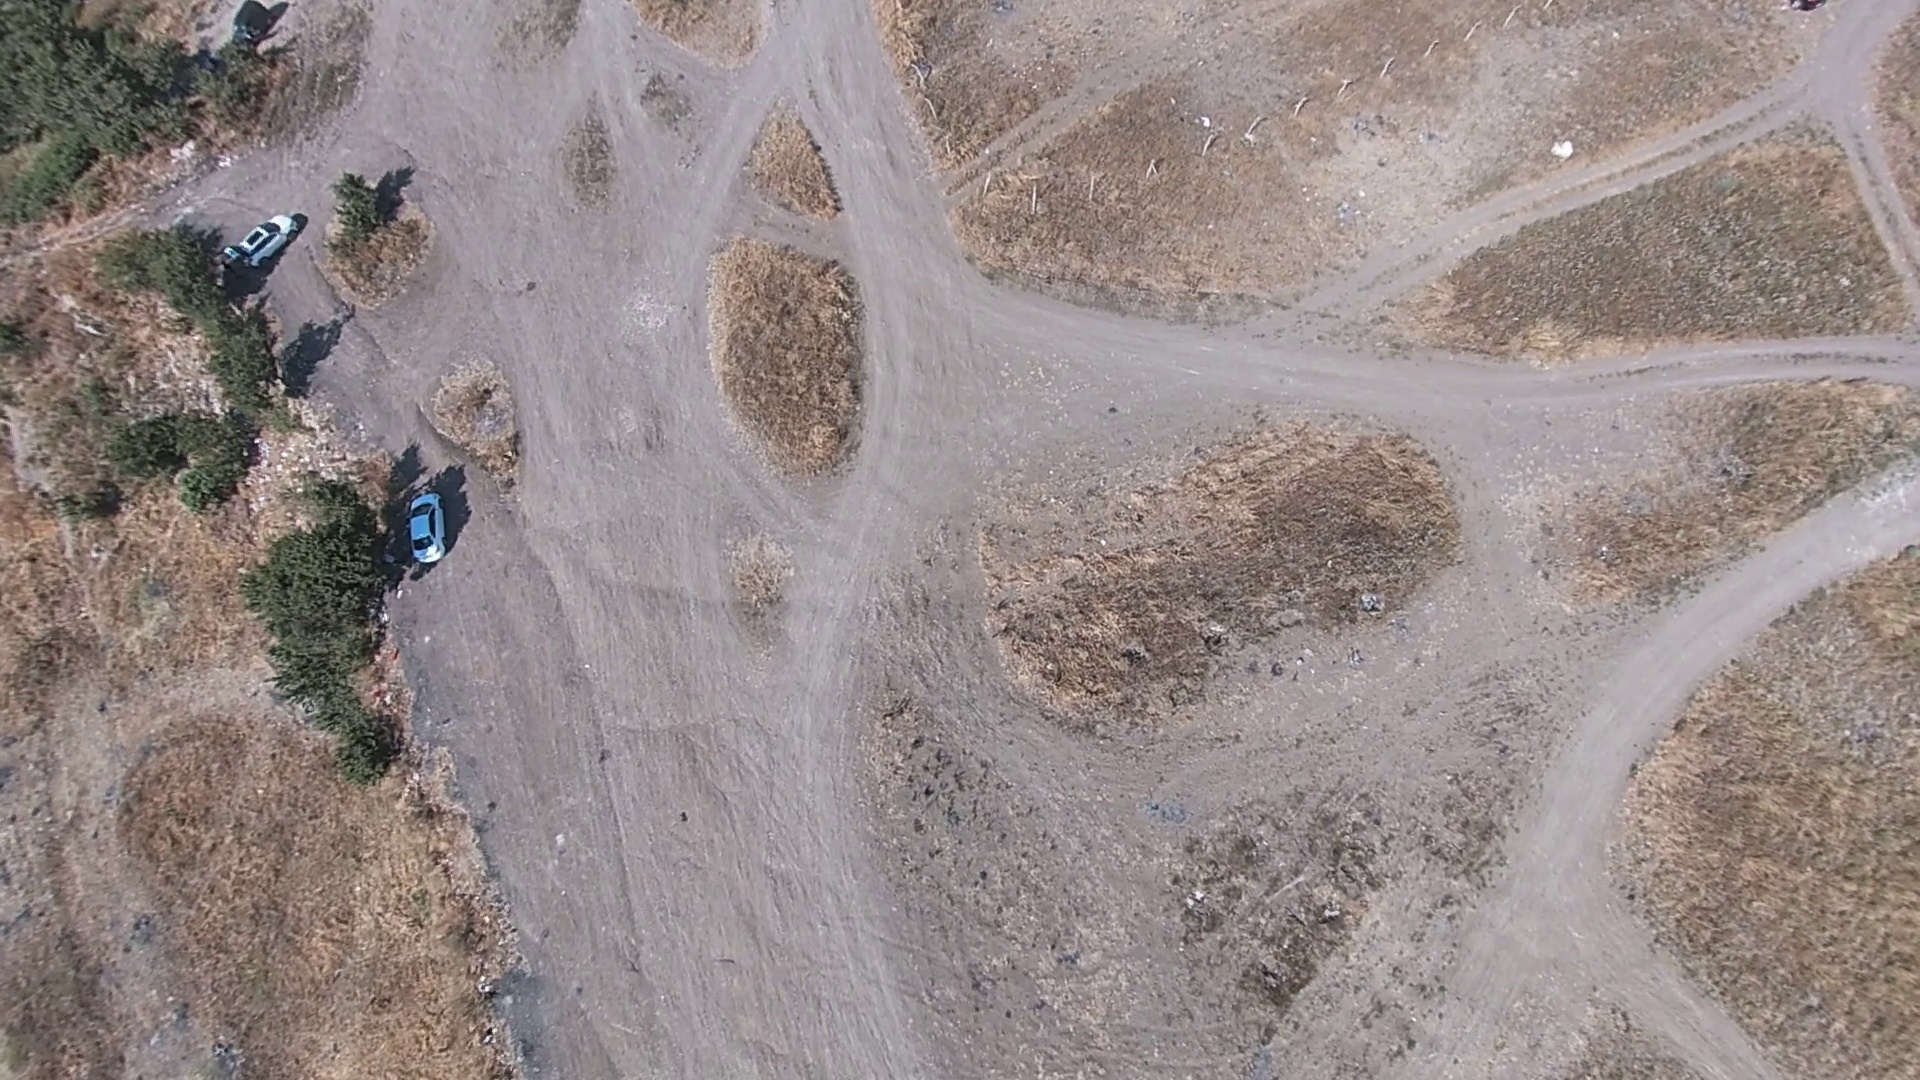araba: (218, 208, 301, 273), (404, 485, 444, 564)
